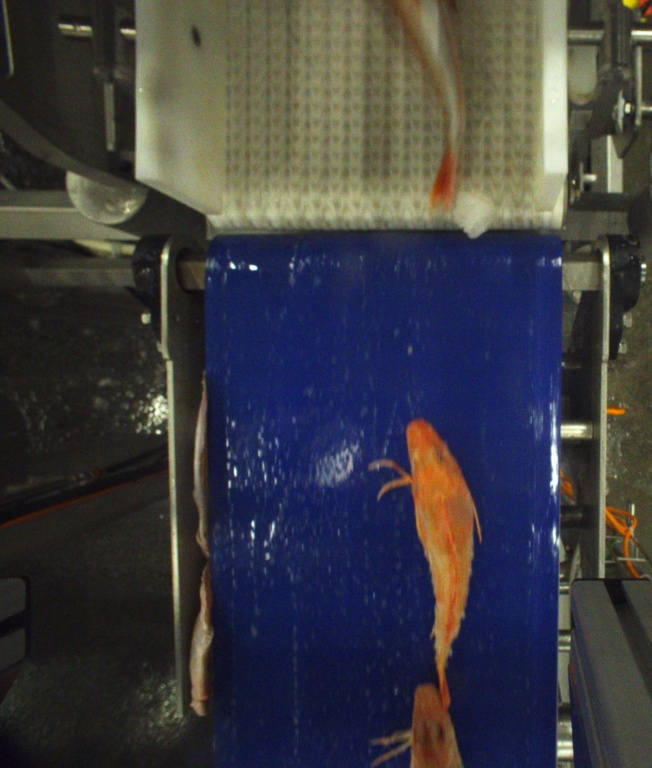GUU: (383, 0, 462, 209)
